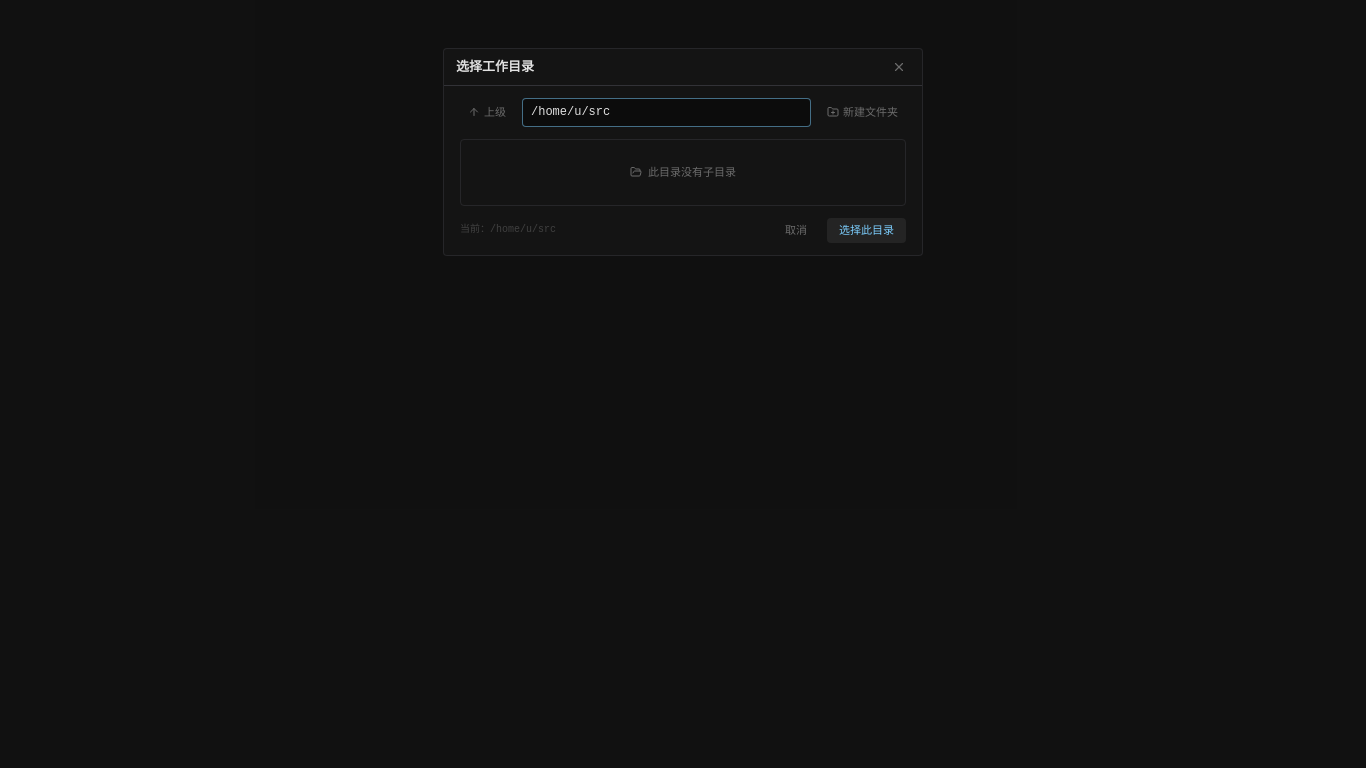
Test: DirectoryPickerModal › 上级 → 按输入框里的字面路径爬一级
Click the button "上级".
click(487, 112)  # box x1=460 y1=100 x2=514 y2=125
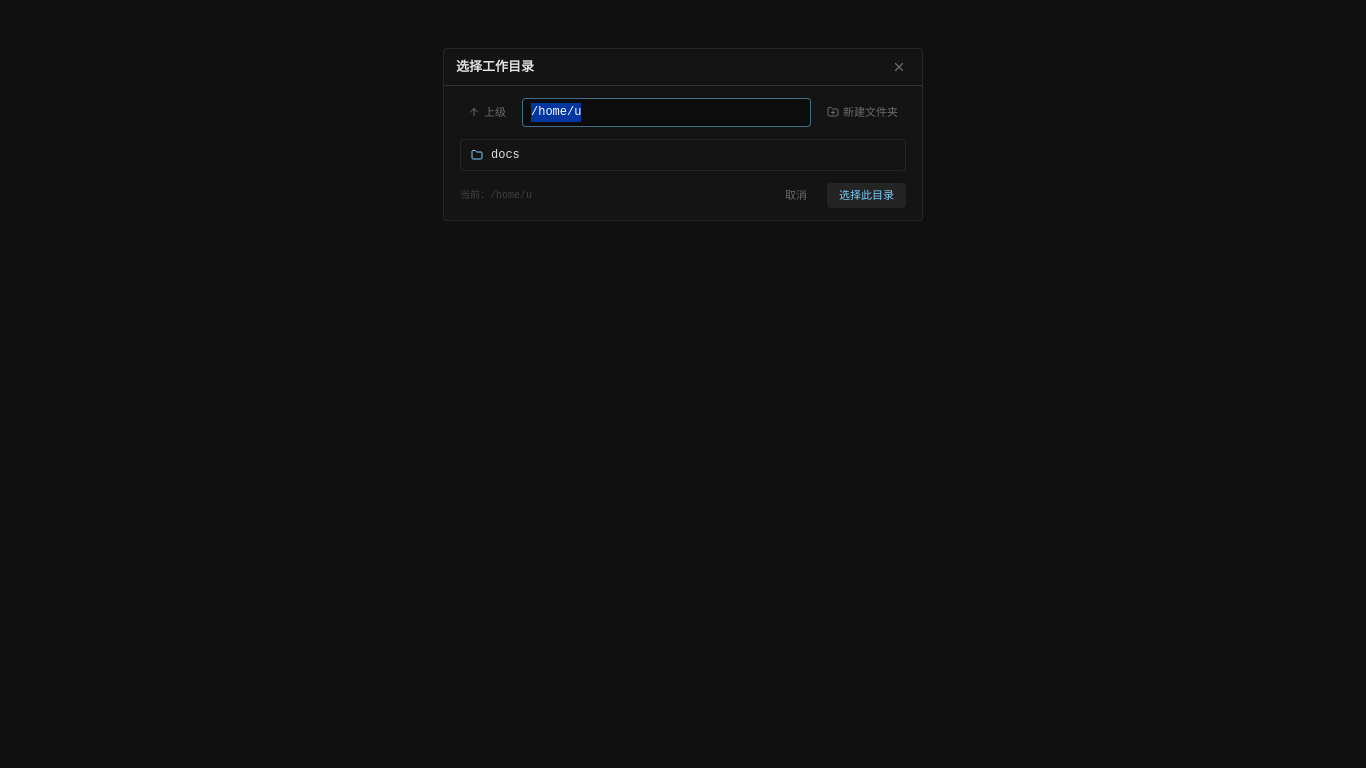
Now the button "docs" is shown, box x1=461 y1=140 x2=905 y2=170
